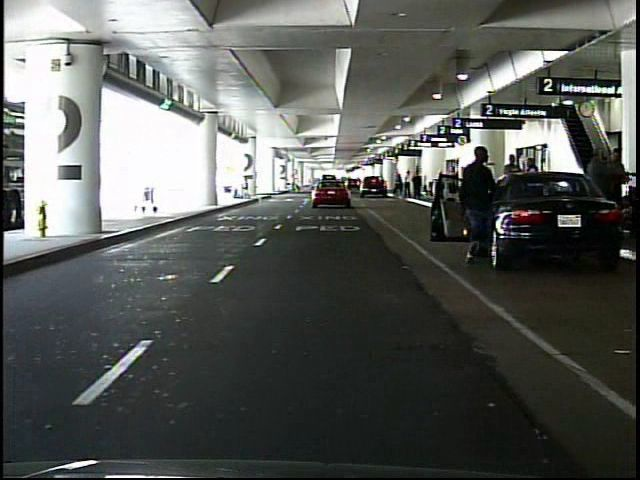person: (463, 145, 498, 271), (594, 145, 628, 238), (579, 142, 614, 229), (502, 152, 525, 216), (524, 156, 542, 216), (404, 168, 414, 200), (413, 170, 423, 200), (396, 173, 405, 197), (289, 176, 298, 193)
